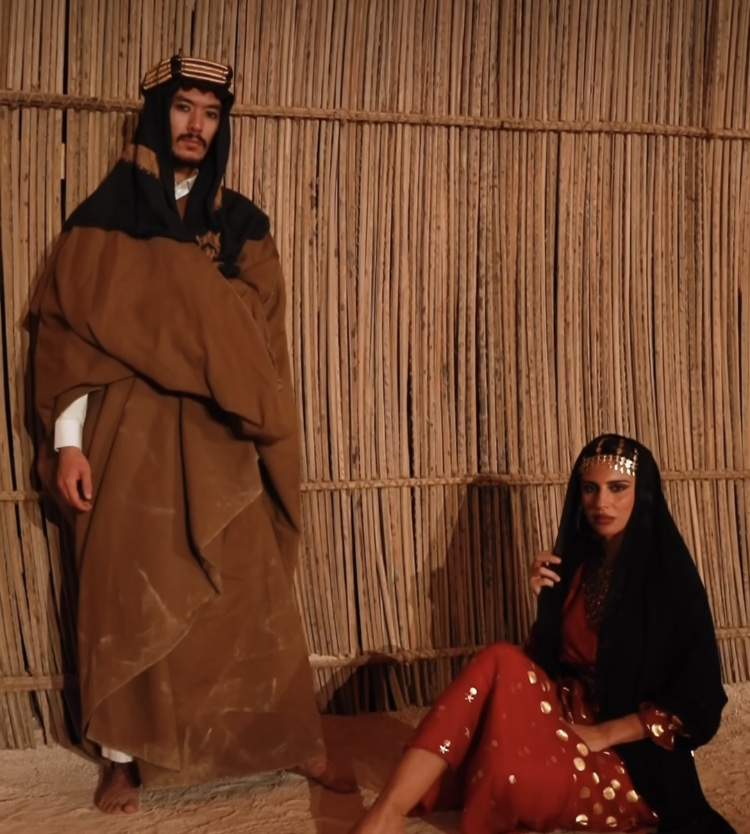Saudi_Founding_Day: (25, 49, 369, 812), (350, 432, 739, 832)
